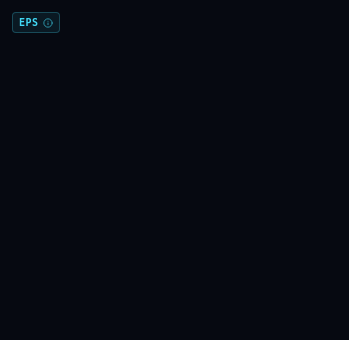
Test: React Component Tests — 6-Stage Shell, Advisory Decision, Planning Sheets & Leaderboard › provides accessible interactive abbreviation explanations with NASA links via TechTerm
What coordinates should you click on to do the following:
click the button with aria-label "EPS: Electrical Power System"
I would click on:
 (36, 22)
Its box is [12,12,60,33].
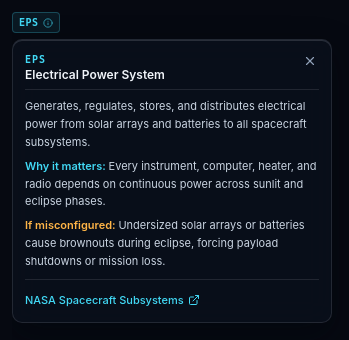
Result: the tooltip shows "Electrical Power System" at [25,67,165,82]
Result: the tooltip shows "Why it matters:" at [25,159,109,173]
Result: the tooltip shows "If misconfigured:" at [25,218,118,232]
